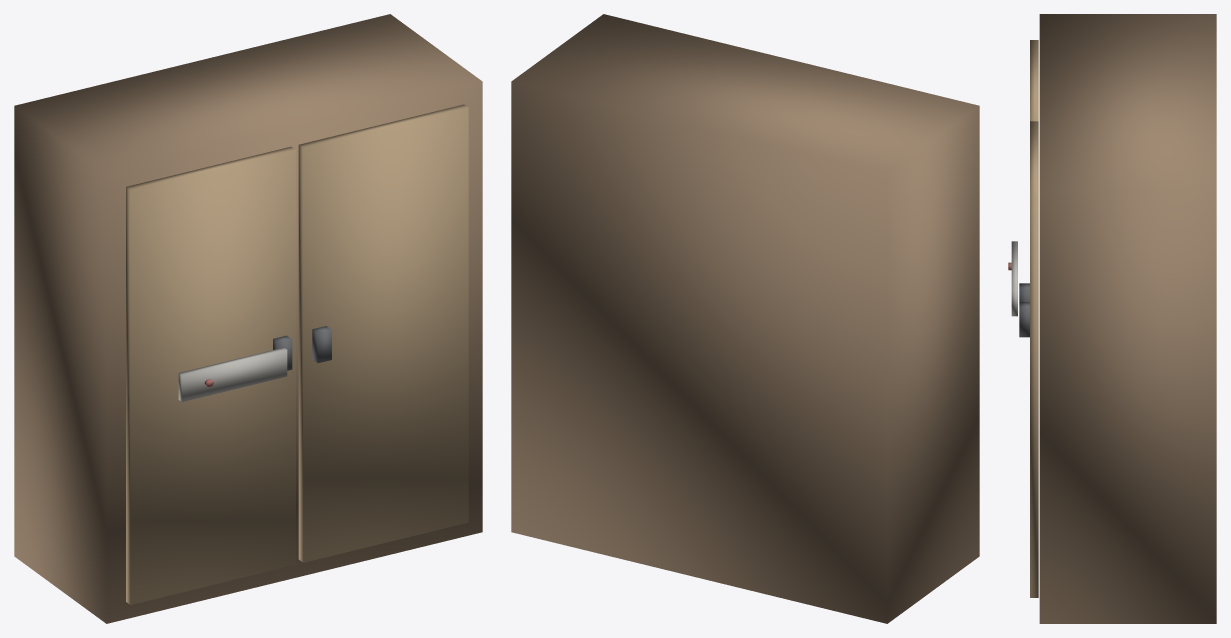
File: case_file_cabinet__wide.glb
3 views of the same model, side by side, from view 1: azimuth 30°, elevation 25°; view 2: azimuth 150°, elevation 25°; view 3: azimuth 270°, elevation 25° (orthographic). The views are drawn at different scales.
Visible parts, largest first — view 1: world; view 2: world; view 3: world.
Boxes of the visible parts, bbox=[...] form: world: bbox=[14, 14, 482, 623]; world: bbox=[511, 14, 979, 623]; world: bbox=[1008, 14, 1216, 623].
Bounding box in the file's own units: 1.18 × 1.35 × 0.5885.
